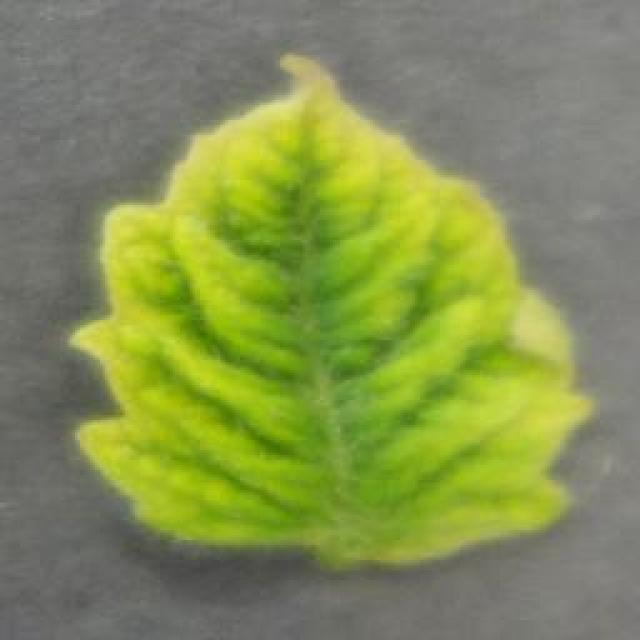Tomato yellow virus leaf: (65, 51, 590, 569)
